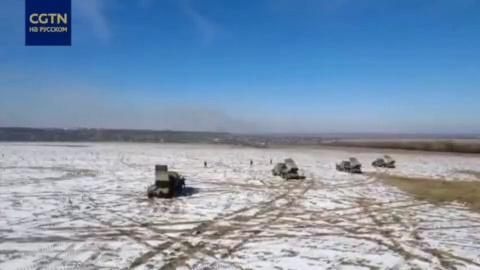person: (202, 160, 208, 170), (250, 159, 254, 168)
rszo: (144, 162, 186, 201), (270, 158, 302, 179), (335, 154, 363, 175), (371, 152, 399, 173)
